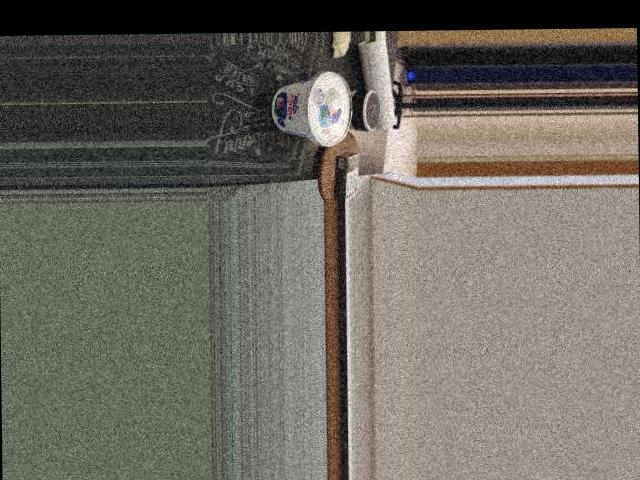cotage: (266, 71, 353, 143)
